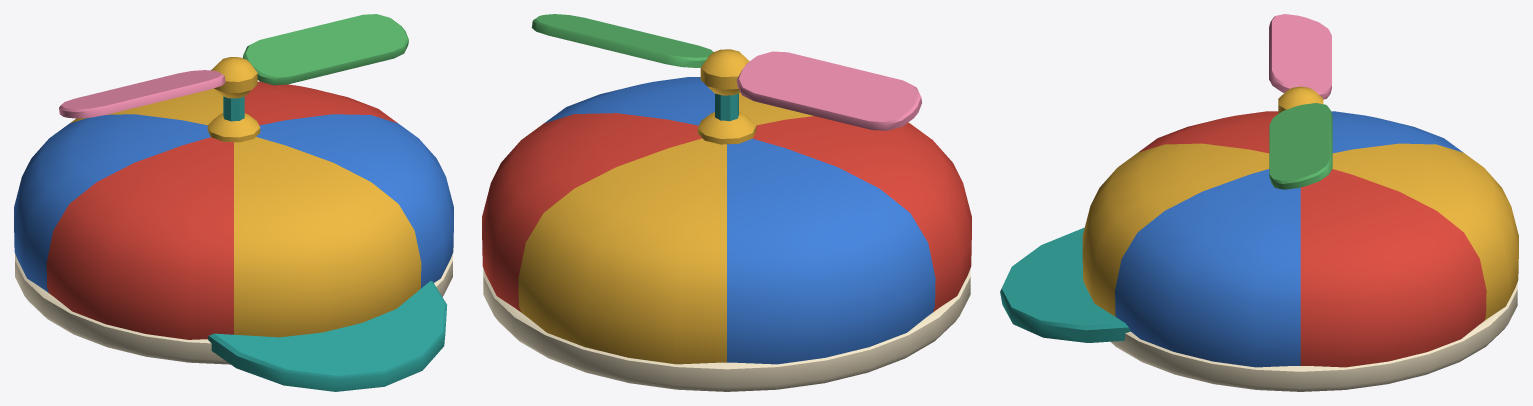
The model's file is hat_propeller_cap.glb.
The picture shows the model from 3 angles, left to right: view 1: azimuth 30°, elevation 25°; view 2: azimuth 150°, elevation 25°; view 3: azimuth 270°, elevation 25°; orthographic projection. The views are drawn at different scales.
Visible parts, largest first — view 1: Hat, Spin; view 2: Hat, Spin; view 3: Hat, Spin.
Boxes of the visible parts, <box> form: Hat: <box>14,81,453,391</box>; Spin: <box>59,14,408,118</box>; Hat: <box>482,77,971,391</box>; Spin: <box>531,14,922,130</box>; Hat: <box>1000,111,1518,391</box>; Spin: <box>1269,14,1332,189</box>.
Size of the model in its own units: 0.788 by 0.4291 by 0.9368.
